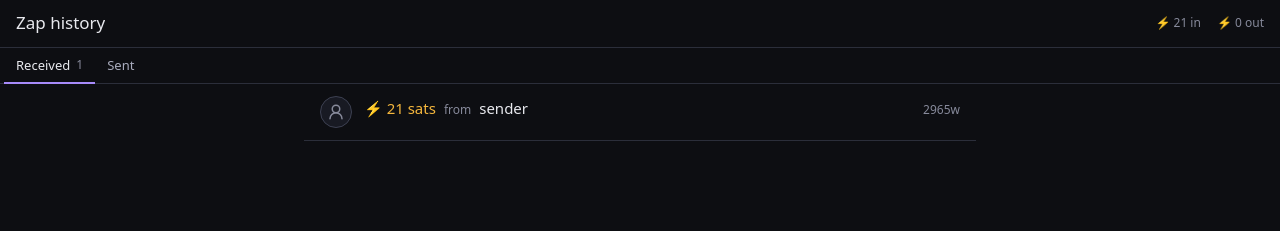
ZapHistoryView › takes an empty tab at its word when the network answered for the other tab
What coordinates should you click on to do the following:
click the tab "Sent"
I would click on:
 (121, 66)
Its box is [95,48,146,84].
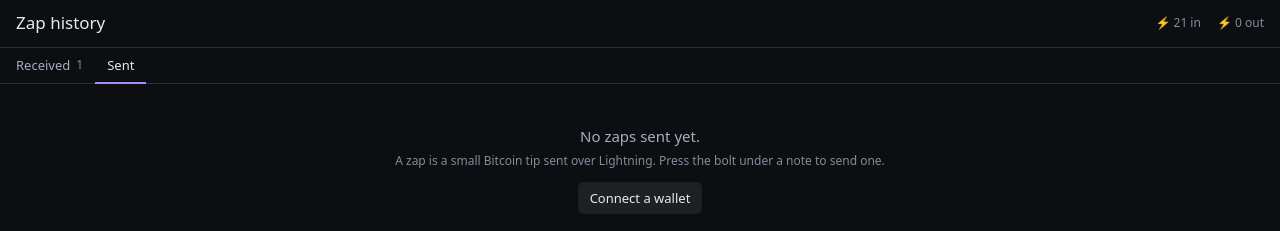
Expected: the text "No zaps sent yet." is shown, [580,126,700,146]
